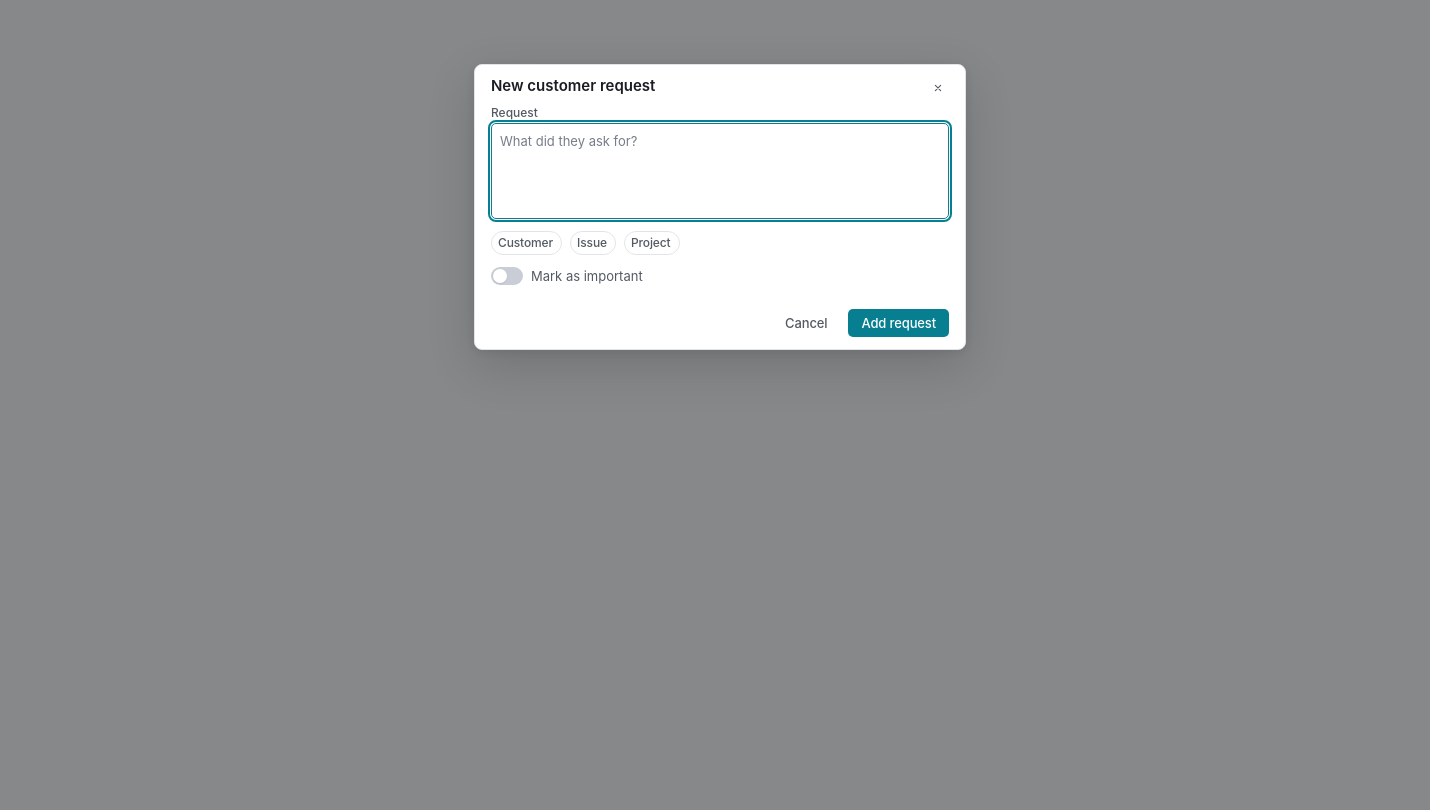
CreateCustomerRequestModal › says what is missing rather than filing a request attached to nothing
The image size is (1440, 810).
Type "Floating." into the text box labelled "Request". click: (720, 171)
box: x1=491 y1=123 x2=949 y2=219
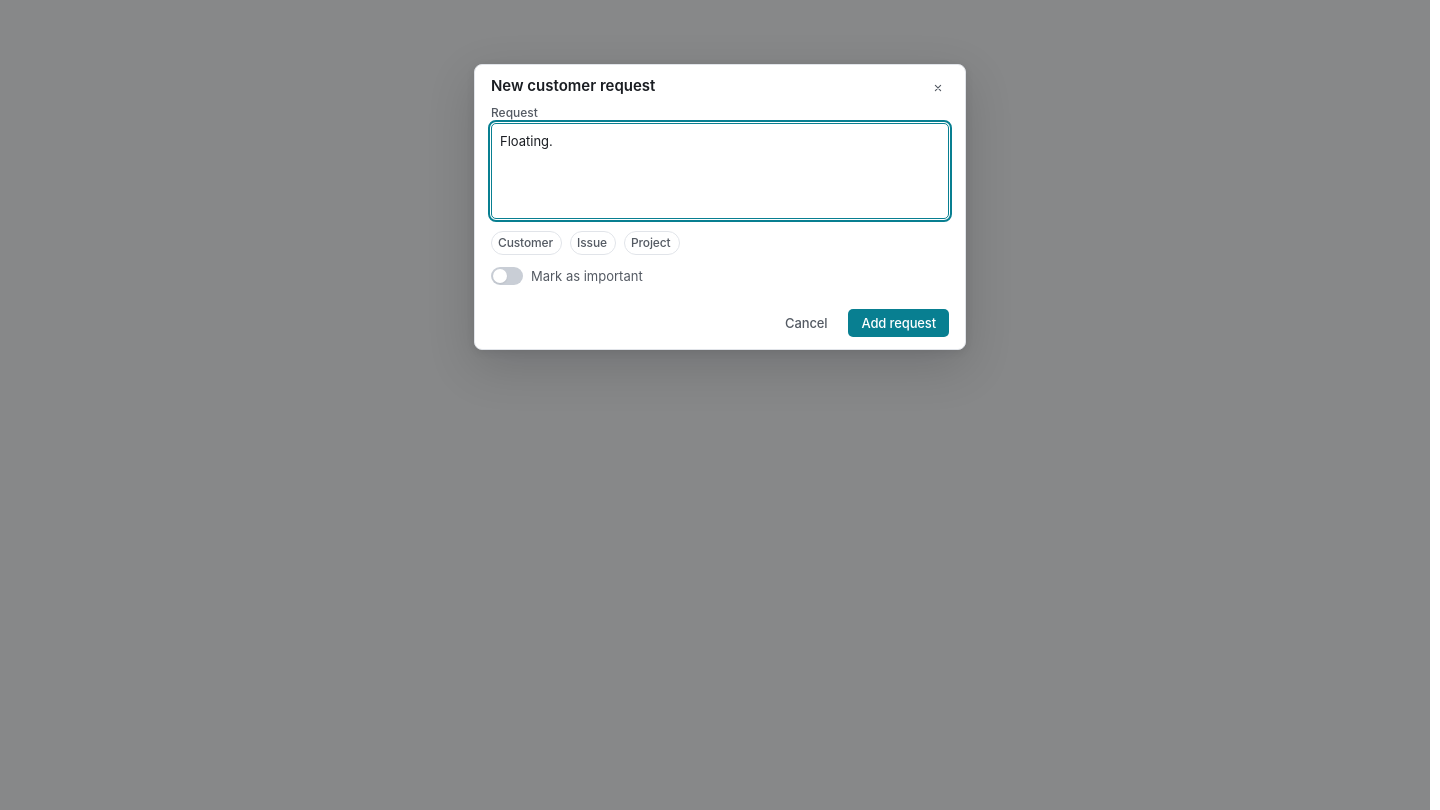
Click the button "Add request". click: (899, 323)
box: x1=848 y1=309 x2=949 y2=337
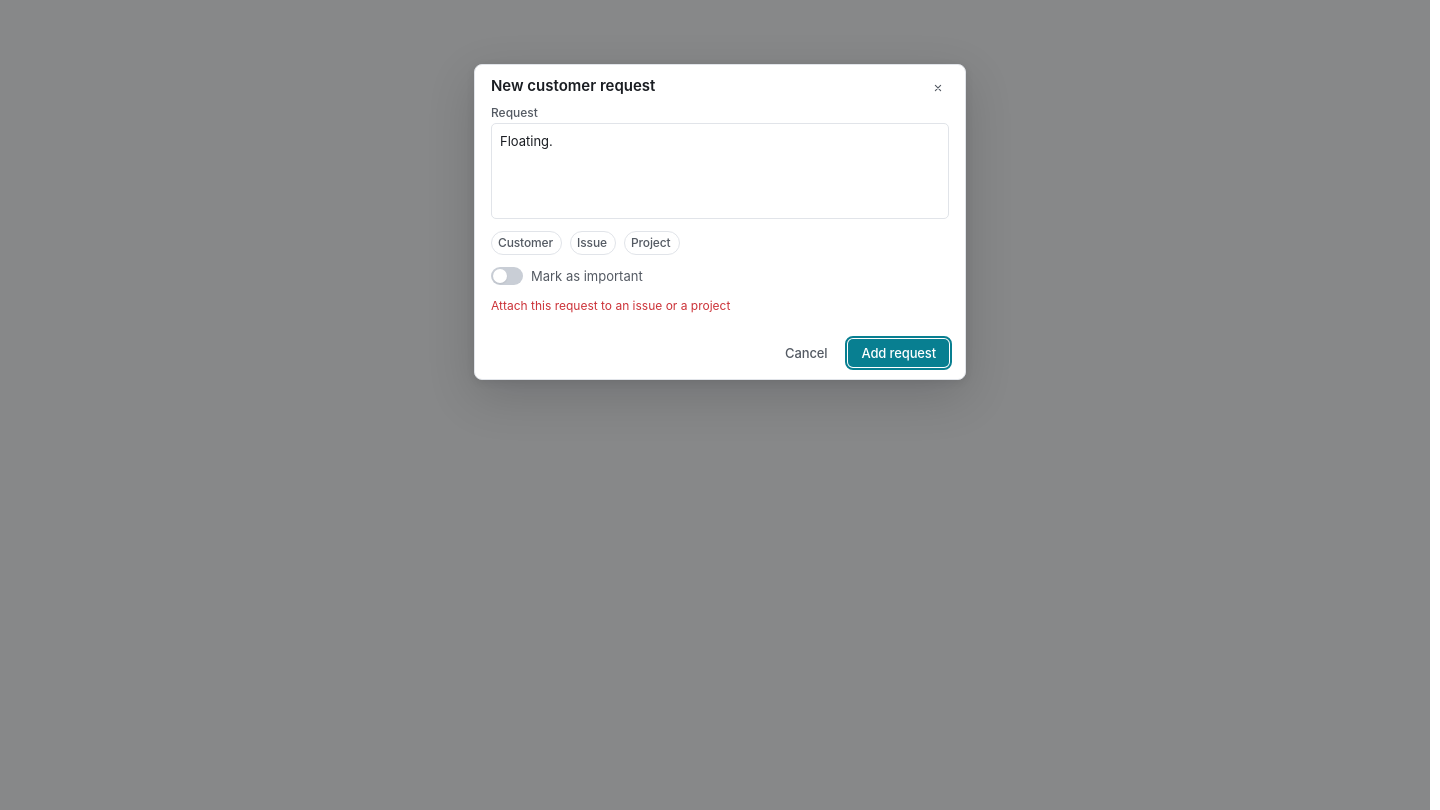
Expected: the message reads "Attach this request to an issue or a project", x1=491 y1=298 x2=730 y2=313
